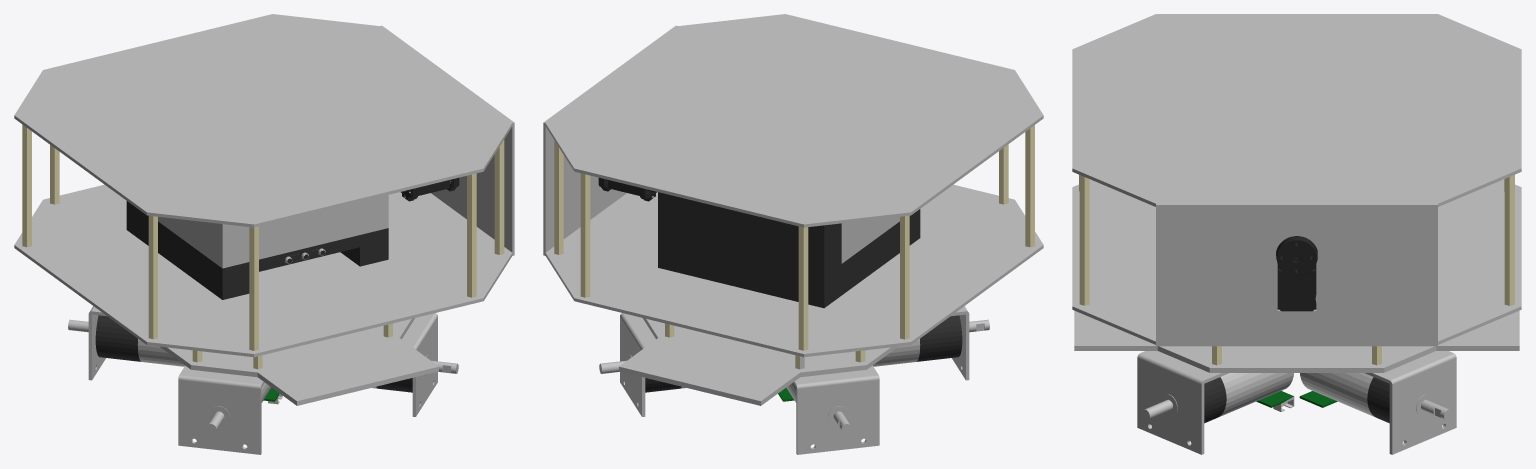
3 renders of one model, left to right at view 1: azimuth 30°, elevation 25°; view 2: azimuth 150°, elevation 25°; view 3: azimuth 270°, elevation 25°, orthographic. The views are drawn at different scales.
Parts seen in each view (by area): view 1: Assembly; view 2: Assembly; view 3: Assembly.
Boxes of the visible parts, x1=… form: Assembly: x1=14, y1=14, x2=514, y2=454; Assembly: x1=543, y1=14, x2=1043, y2=454; Assembly: x1=1072, y1=14, x2=1521, y2=454.
Bounding box in the file's own units: 0.247 × 0.242 × 0.1657.
